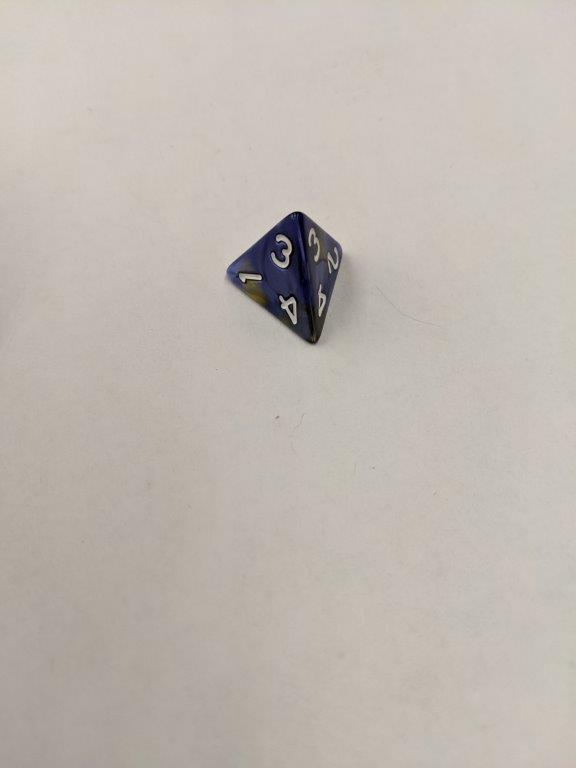d4-3: (222, 207, 348, 348)
